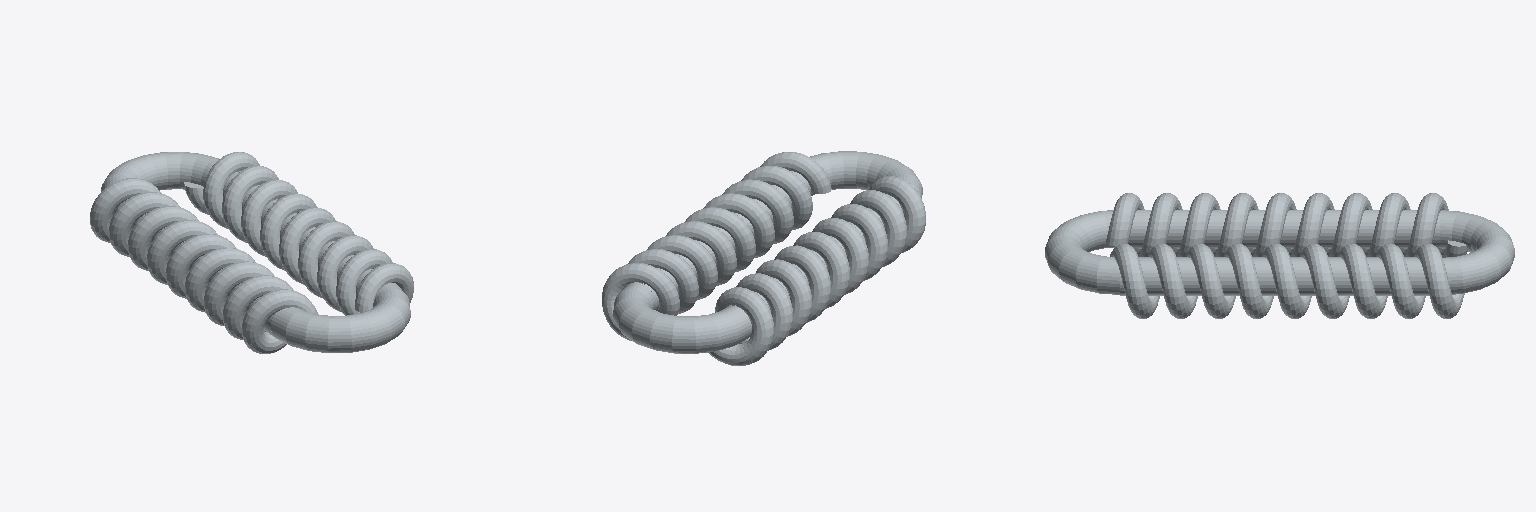
The model's file is zipper.obj.
3 renders of one model, left to right at view 1: azimuth 30°, elevation 25°; view 2: azimuth 150°, elevation 25°; view 3: azimuth 270°, elevation 25°, orthographic.
Visible parts, largest first — view 1: obj_0; view 2: obj_0; view 3: obj_0.
Boxes of the visible parts, <box> form: obj_0: <box>90,152,413,353</box>; obj_0: <box>602,151,925,365</box>; obj_0: <box>1045,193,1514,318</box>.
Bounding box in the file's own units: 26 × 10.08 × 62.5.